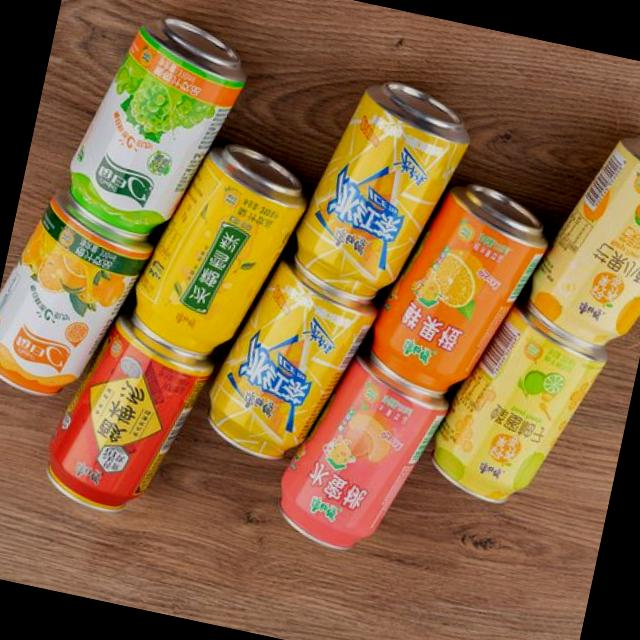can: (55, 0, 260, 254), (120, 126, 318, 374), (284, 65, 480, 314), (360, 168, 560, 408), (420, 292, 617, 521), (195, 248, 388, 478), (267, 340, 460, 569), (36, 302, 224, 530), (0, 185, 168, 416), (516, 116, 640, 354)
